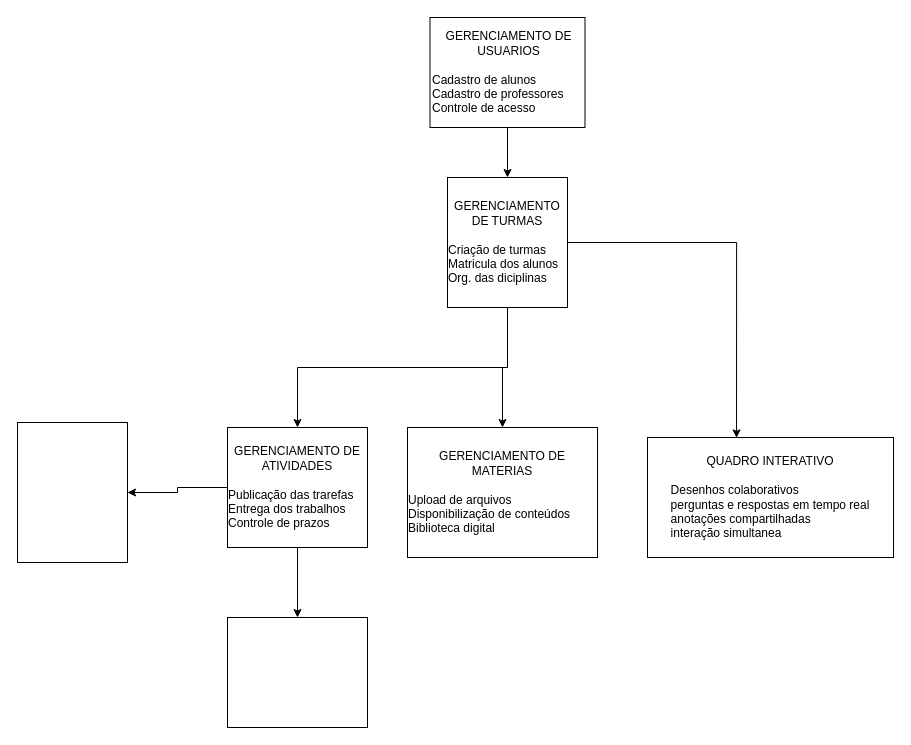
This 911x745 diagram has some shape labels left out. The box of each missing label's shape, as (x1, y1, x2, y2) in pixels:
COMUNICAÇÃO E NOTIFICAÇÕES Avisos Mensagens Lembrete de prazos: (16, 422, 128, 562)
GERENCIAMENTO DE AVALIAÇÕES Lançamento de notas feedback histórico de desempenho: (226, 616, 368, 728)
